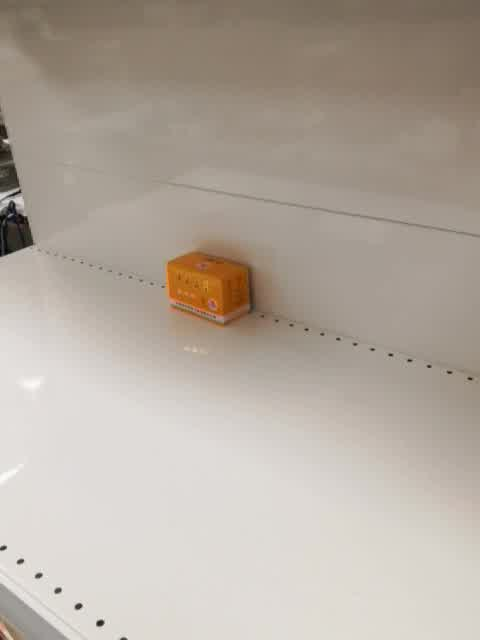jasminetea: (166, 251, 254, 329)
